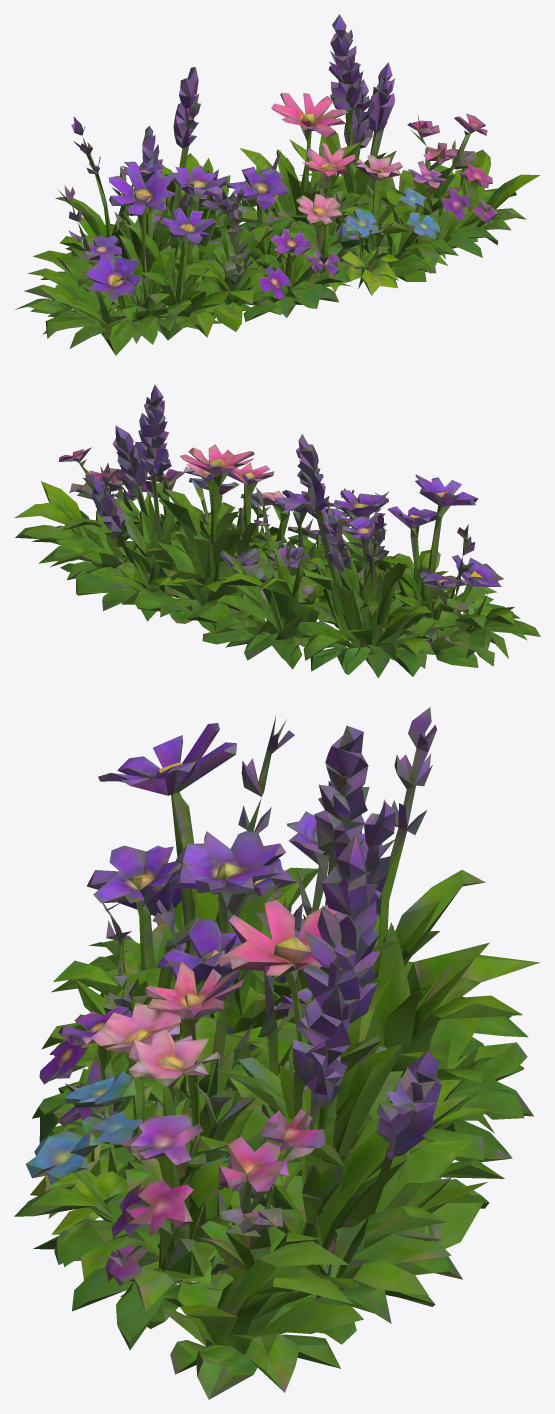
The model's file is vibrant-bloom-gpu.glb.
3 views of the same model, one above another, from view 1: azimuth 30°, elevation 25°; view 2: azimuth 150°, elevation 25°; view 3: azimuth 270°, elevation 25° (orthographic). The views are drawn at different scales.
Parts seen in each view (by area): view 1: output_unwrapped; view 2: output_unwrapped; view 3: output_unwrapped.
Part boxes in pixels (x1,y1,x2,y2): output_unwrapped: (15,14,540,355); output_unwrapped: (14,385,540,678); output_unwrapped: (14,707,540,1399).
Bounding box in the file's own units: 1.9 × 0.8015 × 0.8831.
1 material, 1 textured.
